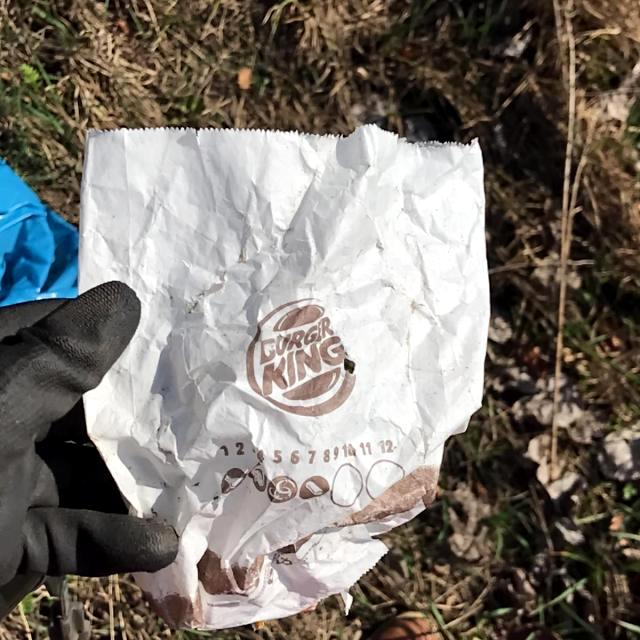Paper: (77, 122, 491, 636)
